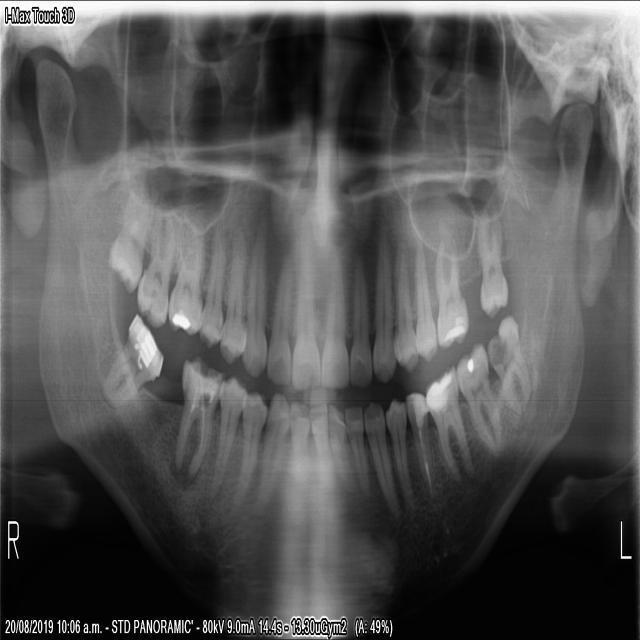LCD: (363, 394, 402, 519)
LCU: (370, 234, 396, 384)
LID: (342, 402, 369, 504), (327, 400, 356, 493)
LIU: (320, 251, 348, 386), (347, 252, 371, 389)
LMD: (424, 363, 475, 488), (455, 336, 502, 461), (484, 312, 532, 418)
LMU: (431, 234, 469, 352), (475, 206, 508, 323)
LPMD: (385, 391, 416, 512), (404, 388, 434, 499)
LPMU: (394, 236, 419, 372), (412, 240, 437, 361)
RCD: (248, 389, 290, 517)
RCU: (241, 213, 267, 377)
RID: (308, 401, 334, 524), (282, 398, 308, 519)
RIU: (289, 234, 320, 392), (265, 247, 294, 386)
RMD: (172, 350, 224, 482), (99, 311, 162, 408)
RMU: (103, 184, 153, 299), (134, 201, 174, 330), (166, 215, 204, 336)
RPMD: (207, 372, 247, 503), (228, 386, 267, 507)
RPMU: (217, 223, 246, 365), (196, 219, 226, 351)
